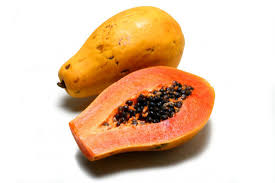papaya: (69, 67, 215, 163), (57, 7, 185, 99)
